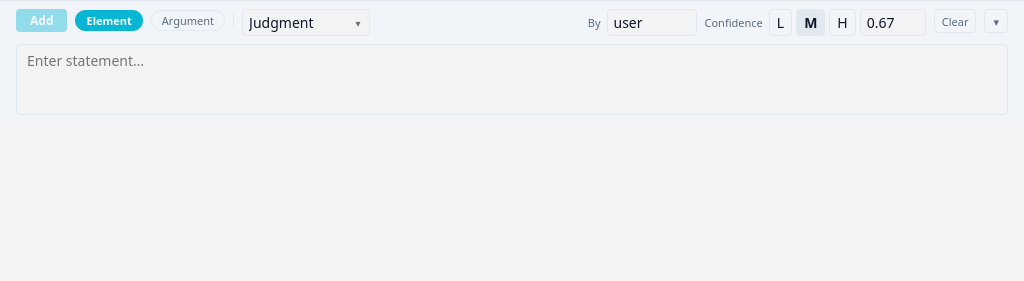
Test: writing an argument out › opens on writing even with elements to pick
The image size is (1024, 281).
Step 1. Click the button "Argument" → x=188, y=20, box [151,10,225,31]
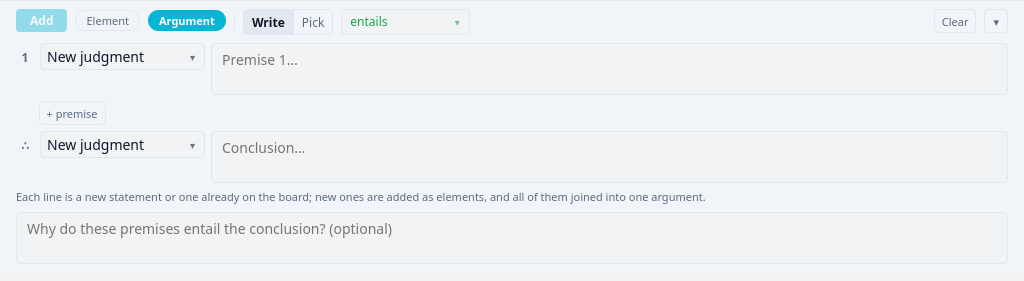
Expected: the text box labelled "Premise 1" is shown, [211,43,1008,95]
